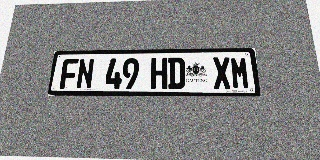4: (105, 58, 123, 89)
9: (122, 58, 139, 89)
D: (168, 57, 185, 89)
F: (59, 59, 79, 89)
H: (150, 58, 167, 89)
M: (230, 57, 250, 89)
N: (76, 58, 95, 89)
X: (212, 57, 232, 89)
